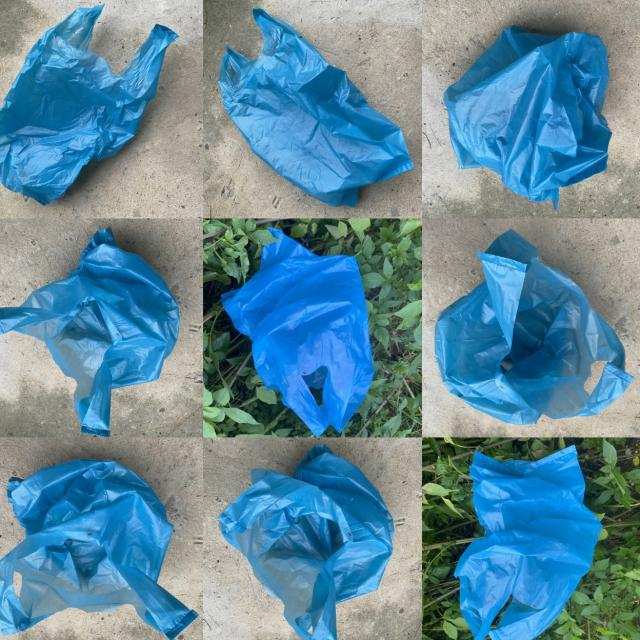plastik: (219, 8, 414, 207), (434, 230, 633, 424), (0, 229, 179, 437), (0, 6, 178, 205), (0, 461, 197, 640), (219, 445, 395, 640), (221, 230, 374, 436), (445, 26, 612, 209), (455, 446, 601, 640)
